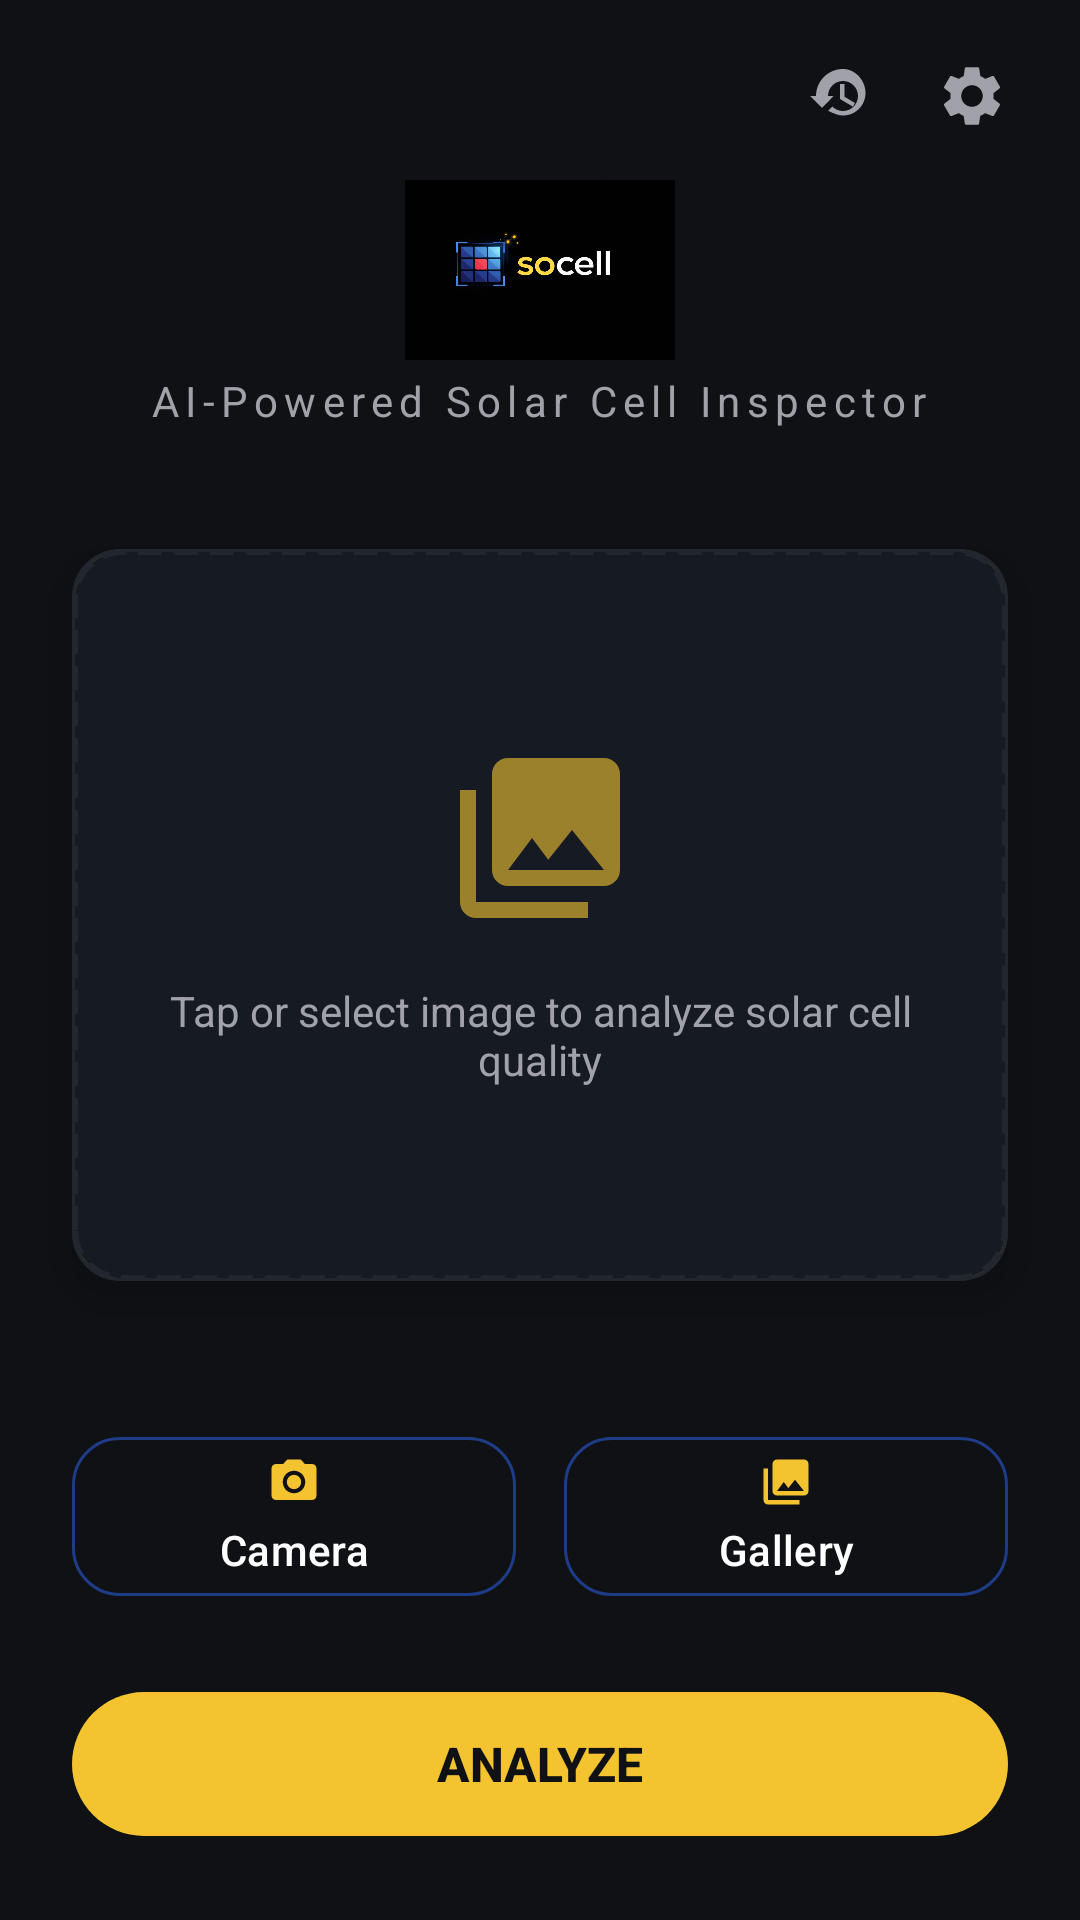

Screen size 1080w x 1920h. Icon name, then its box in pixels as [x1=x1, y1=y1, x2=x2, y2=y2]:
History: [x1=810, y1=69, x2=866, y2=116]
Settings: [x1=944, y1=67, x2=1000, y2=125]
